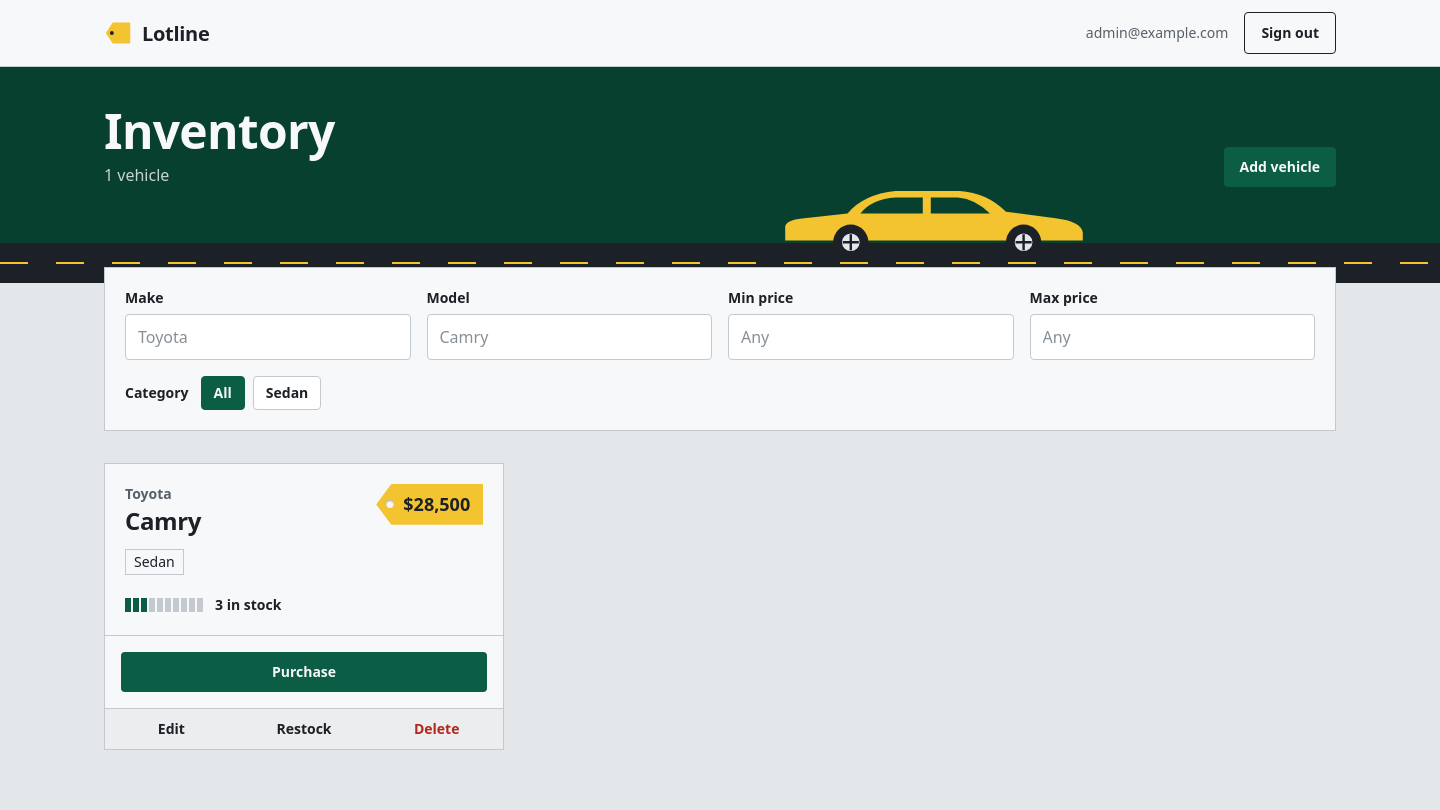
Test: DashboardPage: admin tools › restocks a vehicle with the chosen number of units
Expected: the text "1 vehicle" is shown, [104, 164, 169, 186]
Click the button with aria-label "Restock Toyota Camry" at point(304, 729), box [238, 709, 370, 749]
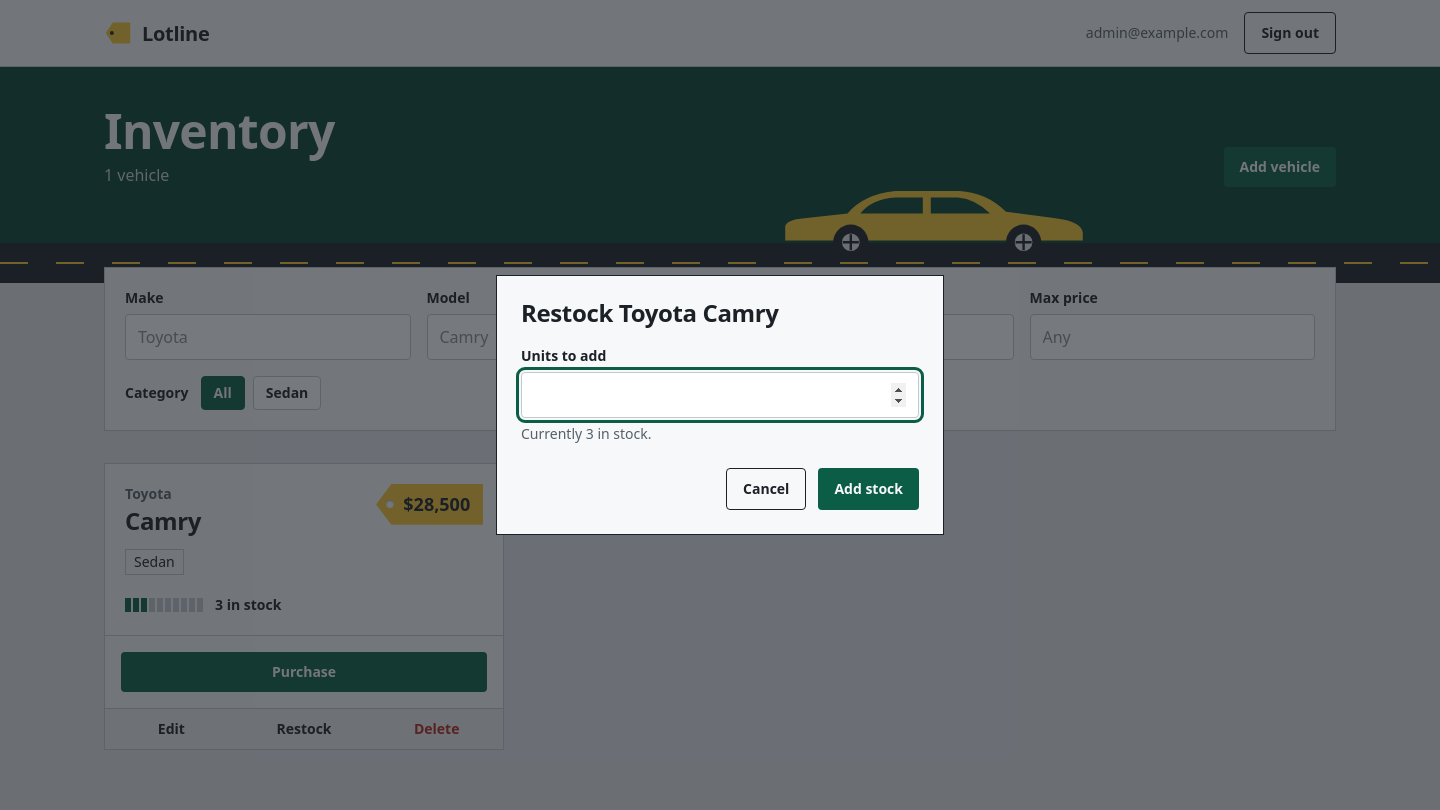
Type "5" into the number field labelled "Units to add" at point(720, 395), box [521, 372, 919, 418]
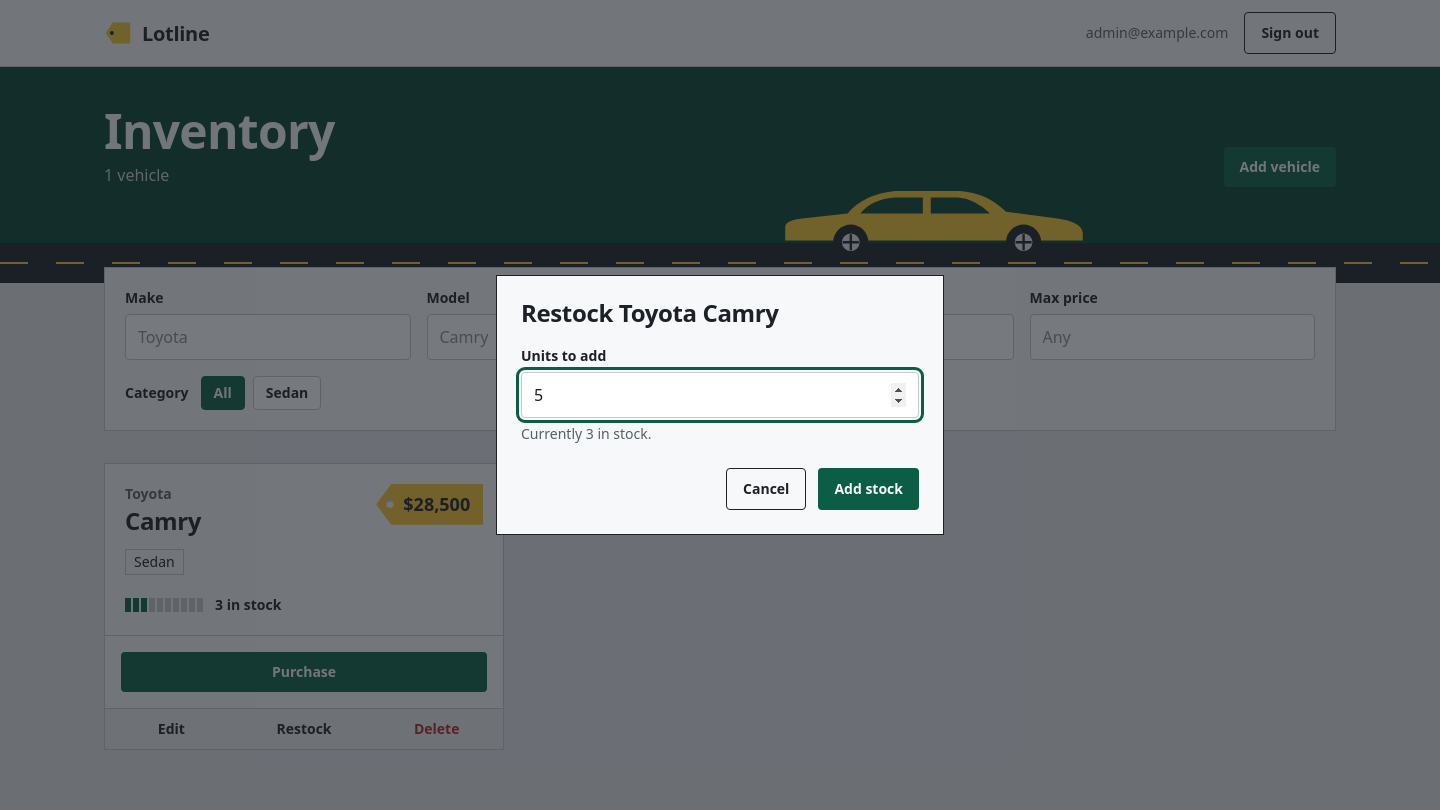
Click the button "Add stock" at point(869, 489), box [818, 468, 919, 510]
(page scrolled)
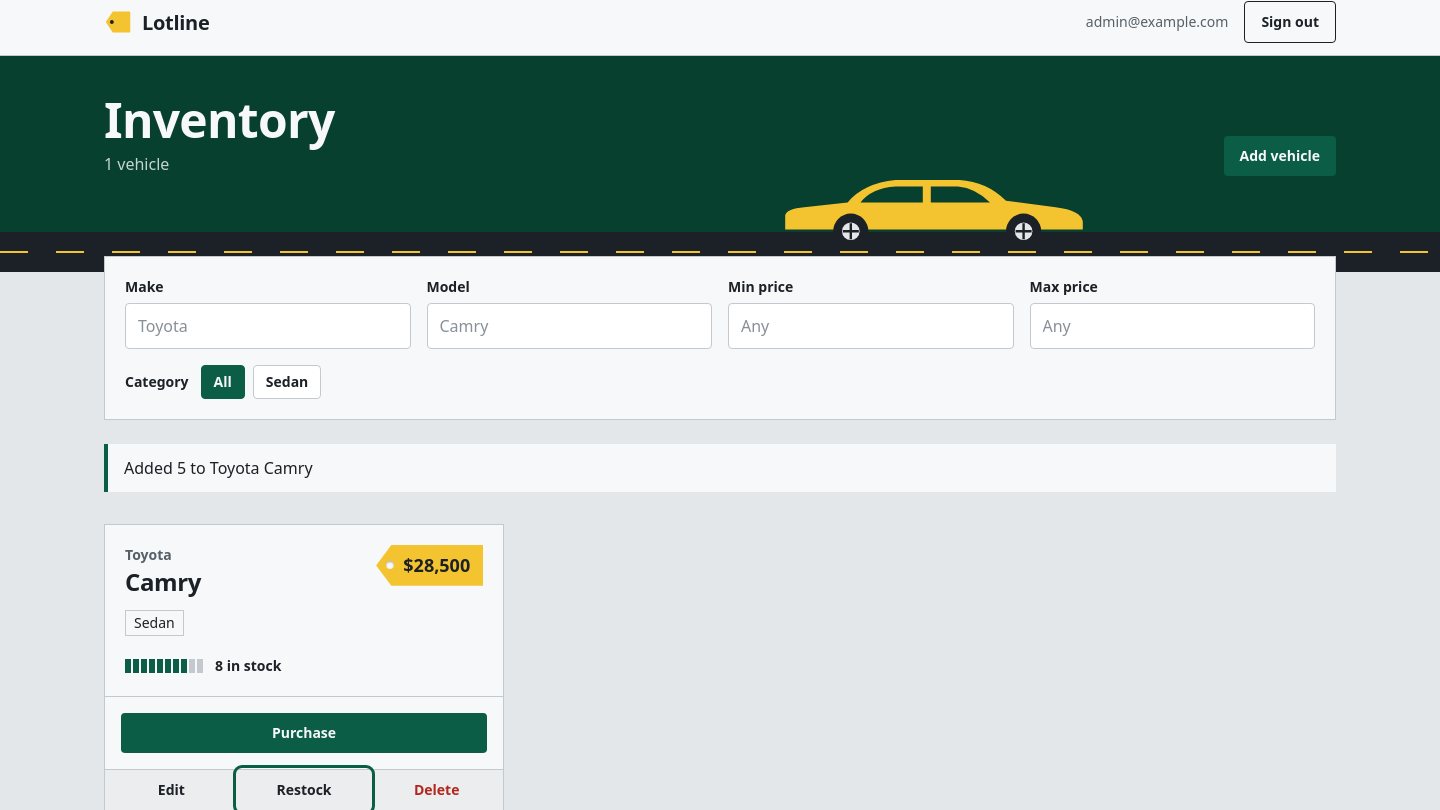
Expected: the picture named "8 in stock" is shown, [125, 659, 203, 673]
